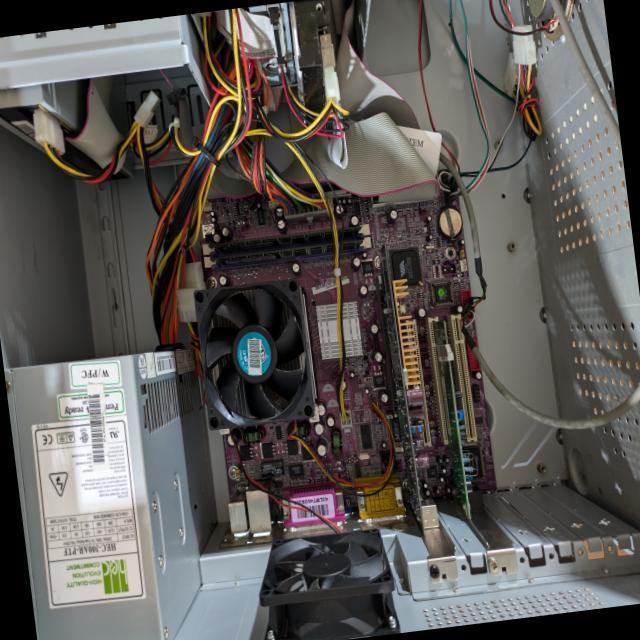CPU_Fan: (193, 276, 320, 436)
DISK: (286, 0, 344, 132)
Mainboard: (193, 167, 499, 544)
PSU: (3, 344, 234, 640)
RAM: (209, 223, 361, 255), (214, 236, 362, 268)
